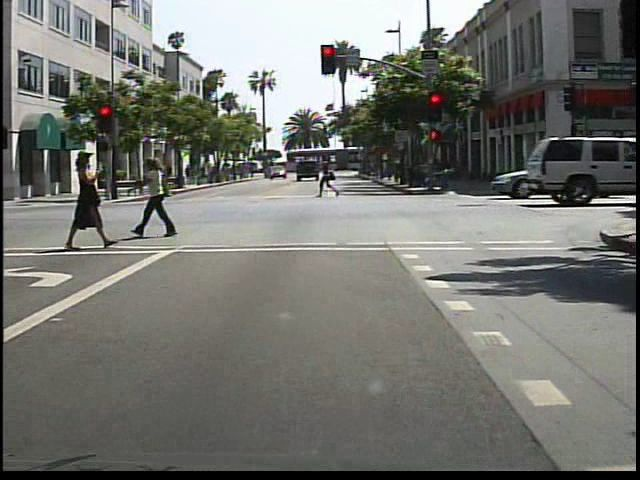person: (61, 147, 109, 252), (138, 155, 178, 238), (316, 151, 341, 199), (3, 149, 9, 258), (162, 161, 176, 187)
